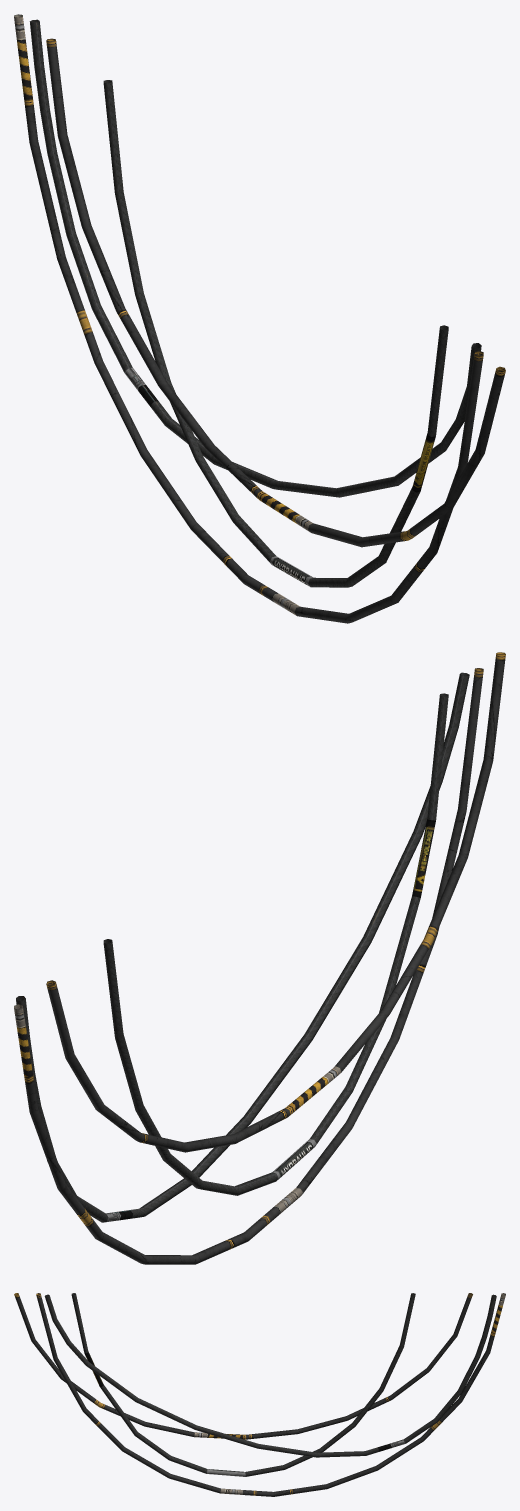
Rendered from CP_Wires_4m_01.fbx.
The picture shows the model from 3 angles, top to bottom: view 1: azimuth 30°, elevation 25°; view 2: azimuth 150°, elevation 25°; view 3: azimuth 270°, elevation 25°; orthographic projection. The views are drawn at different scales.
Visible parts, largest first — view 1: CP_Wires_4m_01_LOD0; view 2: CP_Wires_4m_01_LOD0; view 3: CP_Wires_4m_01_LOD0.
Boxes of the visible parts, <box> form: CP_Wires_4m_01_LOD0: <box>14,14,505,623</box>; CP_Wires_4m_01_LOD0: <box>14,652,505,1264</box>; CP_Wires_4m_01_LOD0: <box>14,1293,505,1496</box>.
Size of what is drawn, in the model's own units: 18.18 by 194 by 427.
